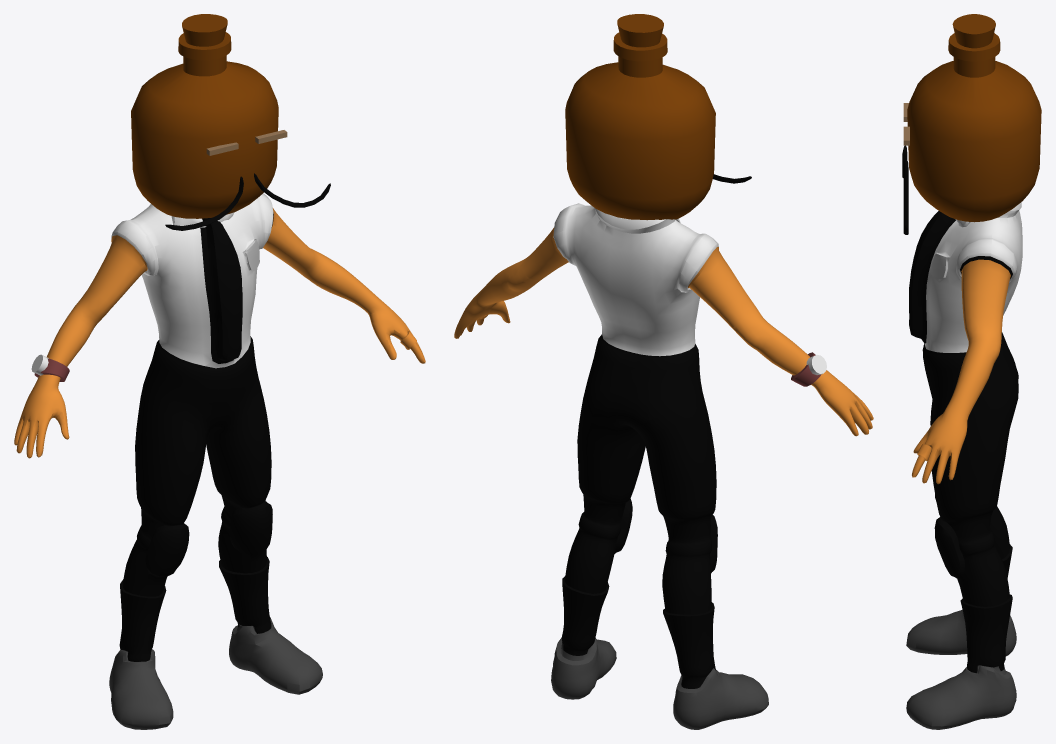
Rendered from sakeparadoalparecerbueno3.fbx.
3 views of the same model, side by side, from view 1: azimuth 30°, elevation 25°; view 2: azimuth 150°, elevation 25°; view 3: azimuth 270°, elevation 25° (orthographic). The views are drawn at different scales.
Visible parts, largest first — view 1: Oficina (×2); view 2: Oficina (×2); view 3: Oficina (×2).
Boxes of the visible parts, x1,y1,x2,y2 form: Oficina (×2): (14, 14, 425, 729); Oficina (×2): (454, 14, 873, 729); Oficina (×2): (902, 14, 1041, 729).
Bounding box in the file's own units: 27.56 × 43.55 × 8.28.
